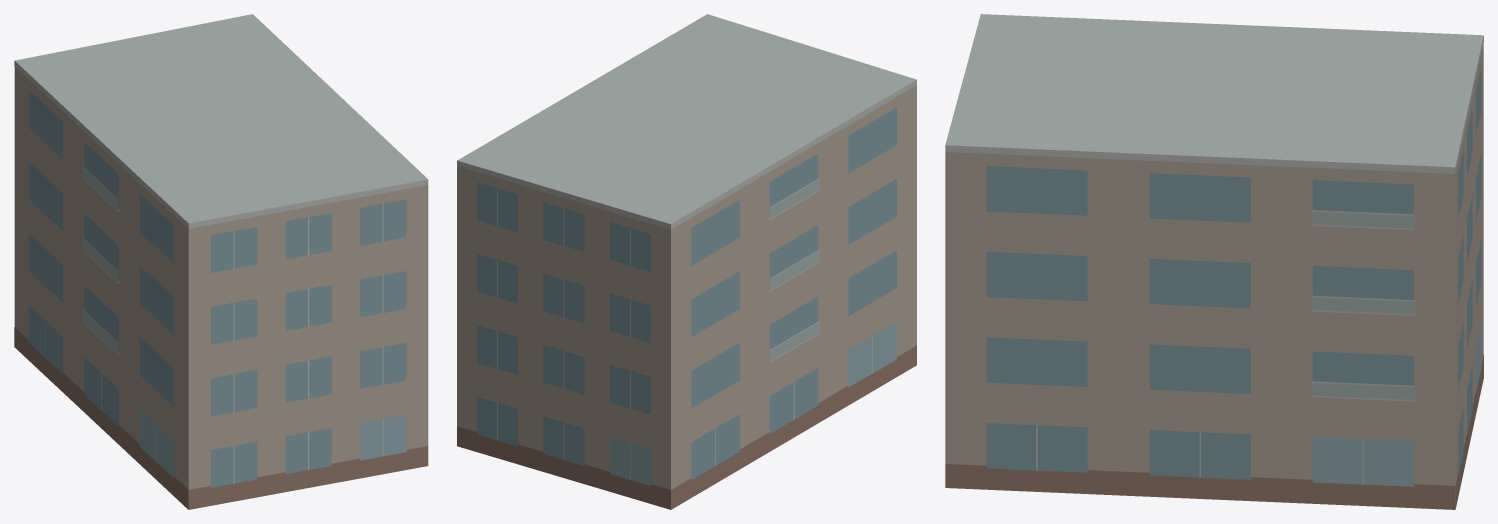
Rendered from survey-upis-32679569.glb.
3 renders of one model, left to right at view 1: azimuth 30°, elevation 25°; view 2: azimuth 150°, elevation 25°; view 3: azimuth 270°, elevation 25°, orthographic. The views are drawn at different scales.
Visible parts, largest first — view 1: survey-upis-32679569.tmp; view 2: survey-upis-32679569.tmp; view 3: survey-upis-32679569.tmp.
Part boxes in pixels (<box>): survey-upis-32679569.tmp: <box>14,14,428,509</box>; survey-upis-32679569.tmp: <box>457,14,916,509</box>; survey-upis-32679569.tmp: <box>945,14,1483,509</box>.
Size of the model in its own units: 12.05 by 12.55 by 17.89.
